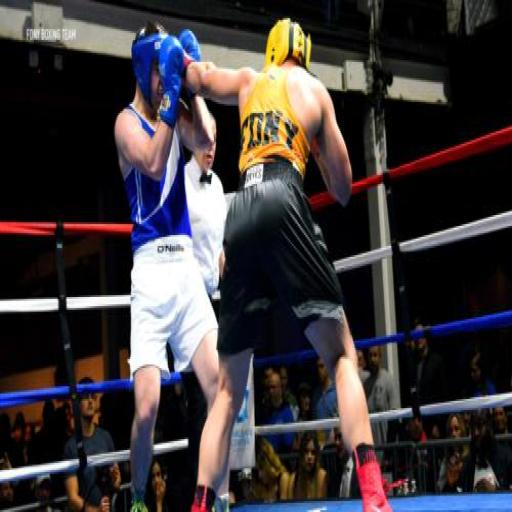boxing: (172, 16, 395, 510)
